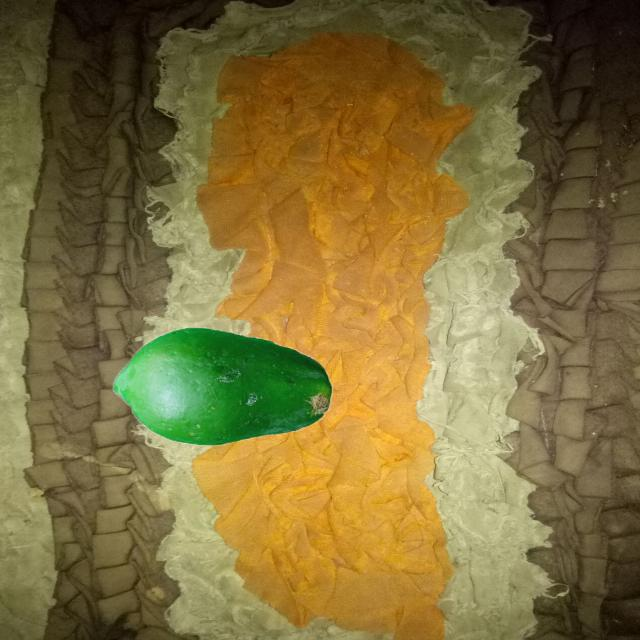Pepaya unrippen: (101, 327, 336, 453)
